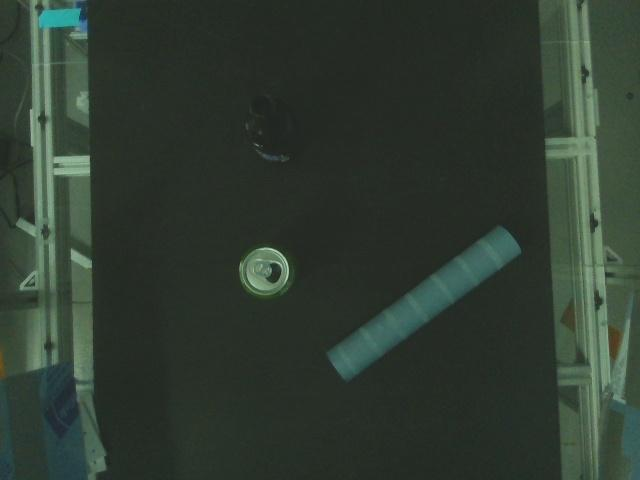cardboard: (325, 224, 522, 385)
glass: (242, 91, 309, 165)
metal: (237, 243, 298, 302)
